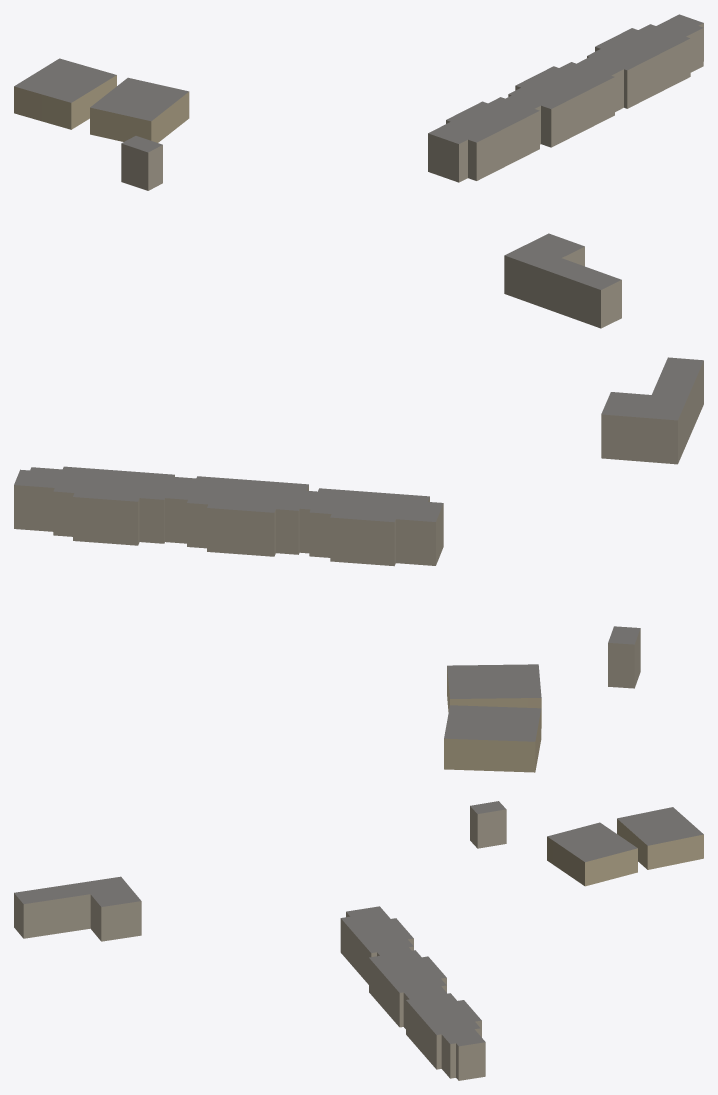
Rendered from buildings.glb.
3 renders of one model, top to bottom at view 1: azimuth 30°, elevation 25°; view 2: azimuth 150°, elevation 25°; view 3: azimuth 270°, elevation 25°, orthographic. The views are drawn at different scales.
Visible parts, largest first — view 1: T_W2_N0_buildings; view 2: T_W2_N0_buildings; view 3: T_W2_N0_buildings.
Part boxes in pixels (bbox=[...]): T_W2_N0_buildings: bbox=[14, 14, 703, 328]; T_W2_N0_buildings: bbox=[14, 357, 703, 772]; T_W2_N0_buildings: bbox=[14, 801, 703, 1080].
Bounding box in the file's own units: 155 × 10 × 181.
